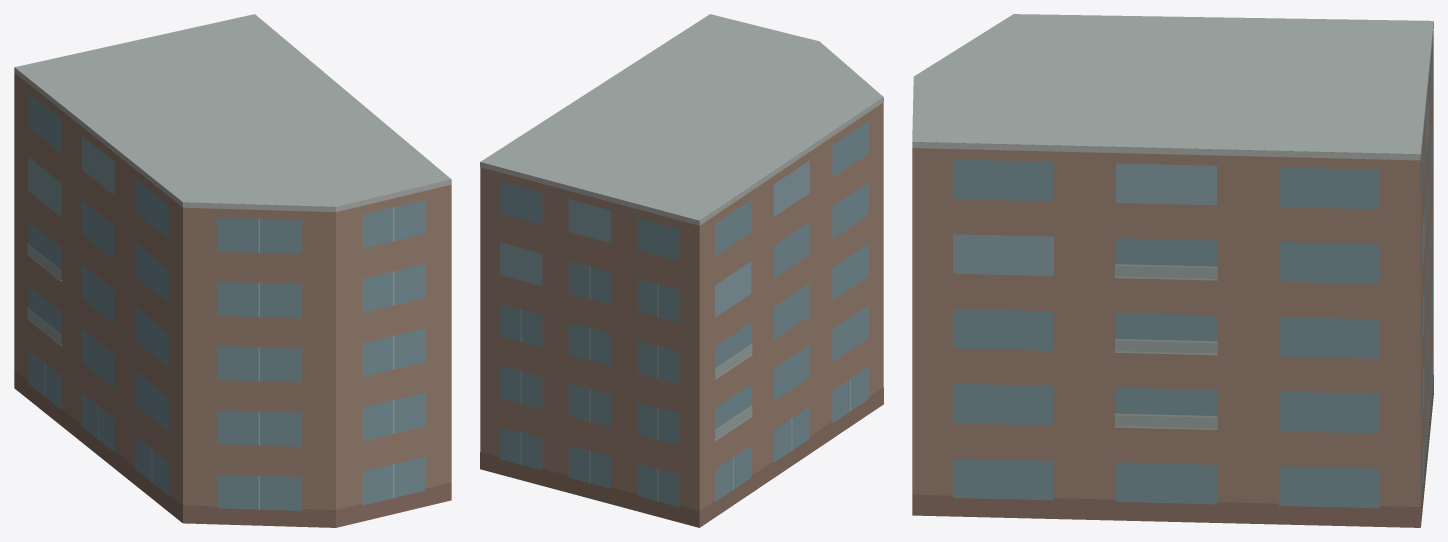
Rendered from survey-upis-32762850.glb.
3 renders of one model, left to right at view 1: azimuth 30°, elevation 25°; view 2: azimuth 150°, elevation 25°; view 3: azimuth 270°, elevation 25°, orthographic. The views are drawn at different scales.
Visible parts, largest first — view 1: survey-upis-32762850.tmp; view 2: survey-upis-32762850.tmp; view 3: survey-upis-32762850.tmp.
Part boxes in pixels (box(x1,y1,x2,y2)): survey-upis-32762850.tmp: box(14, 14, 451, 527); survey-upis-32762850.tmp: box(480, 14, 883, 527); survey-upis-32762850.tmp: box(912, 14, 1433, 527).
Size of the model in its own units: 11.76 by 14.6 by 18.48.
